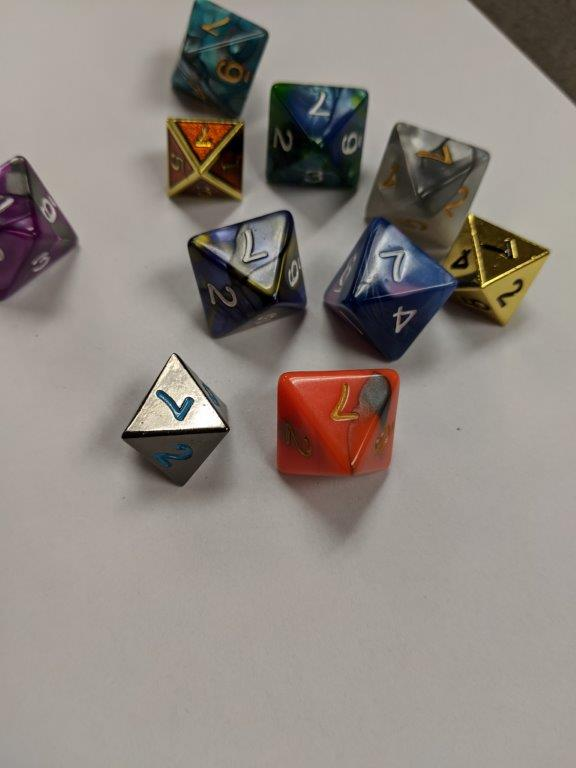d8-7: (319, 219, 448, 365), (115, 351, 233, 487), (188, 211, 307, 340), (277, 370, 400, 480), (440, 212, 554, 325), (365, 121, 493, 218), (162, 1, 269, 117), (1, 152, 80, 305), (265, 80, 370, 191), (161, 116, 247, 204)
